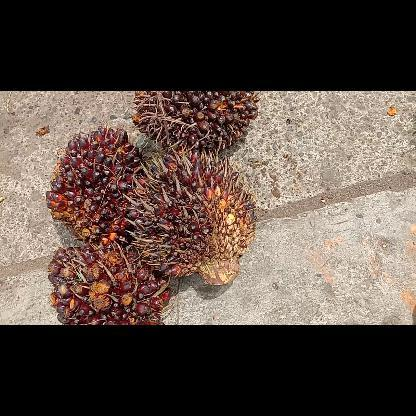Kurang masak: (130, 150, 258, 294), (42, 124, 152, 244), (46, 234, 176, 324), (127, 90, 263, 156)
